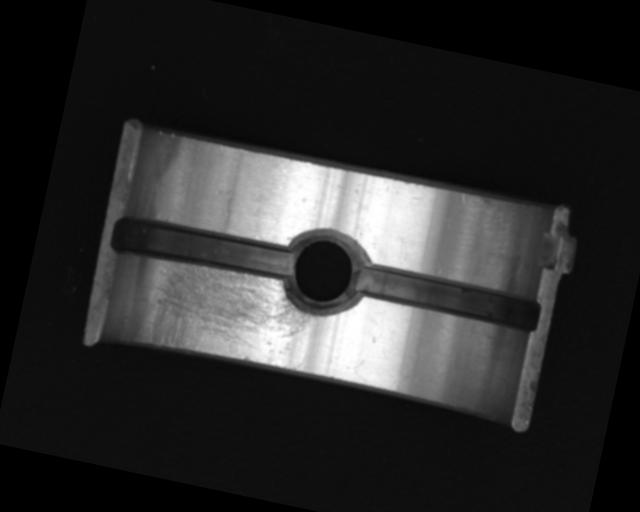gap: (108, 210, 299, 287), (352, 260, 542, 336)
hole: (277, 223, 373, 322)
scratch: (130, 252, 319, 377)
